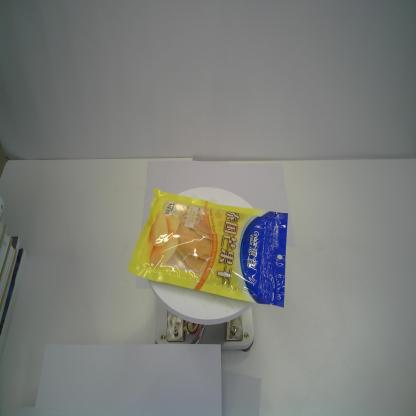Dried Fruit: (127, 186, 290, 308)
